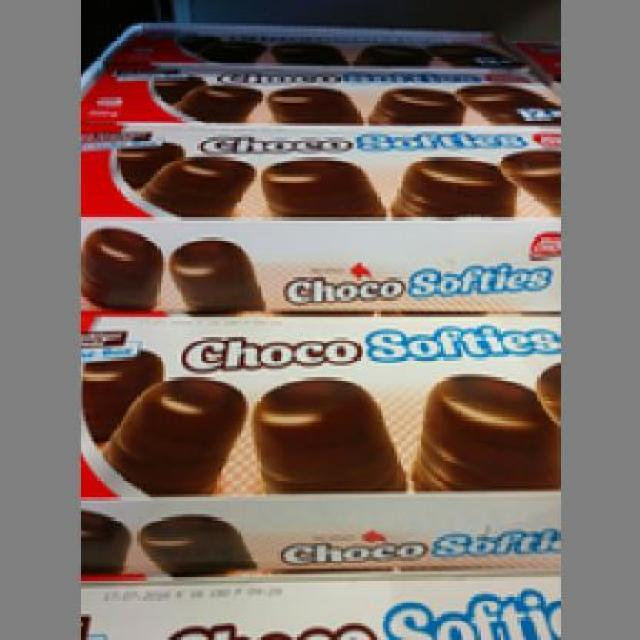Chocolate: (71, 314, 558, 560), (77, 132, 557, 308), (77, 63, 557, 128)
